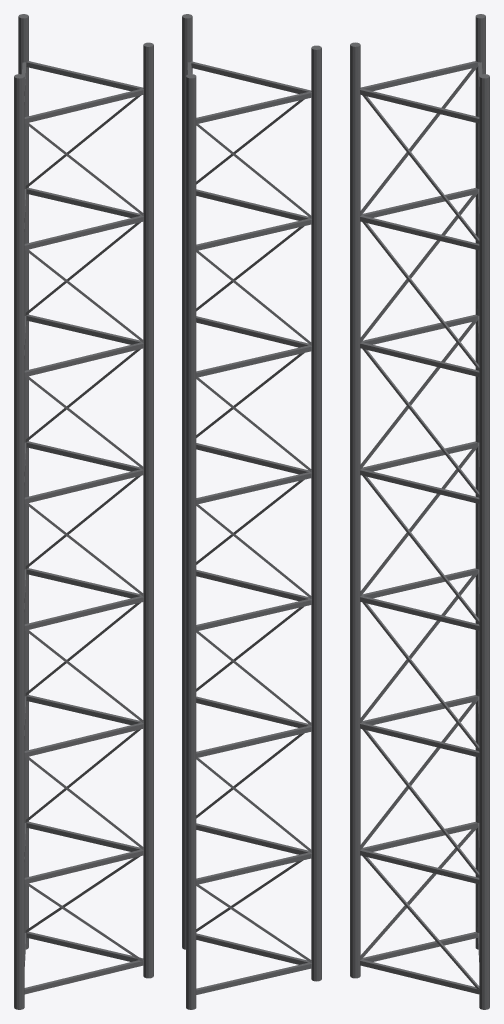
The model's file is Antenna Tower 3.fbx.
3 renders of one model, left to right at view 1: azimuth 30°, elevation 25°; view 2: azimuth 150°, elevation 25°; view 3: azimuth 330°, elevation 25°, orthographic.
Parts seen in each view (by area): view 1: Antenna_Tower1; view 2: Antenna_Tower1; view 3: Antenna_Tower1.
Part boxes in pixels (x1,y1,x2,y2): Antenna_Tower1: (14,14,153,1009); Antenna_Tower1: (182,14,321,1009); Antenna_Tower1: (350,14,489,1009).
Bounding box in the file's own units: 63.29 × 407 × 52.12.
